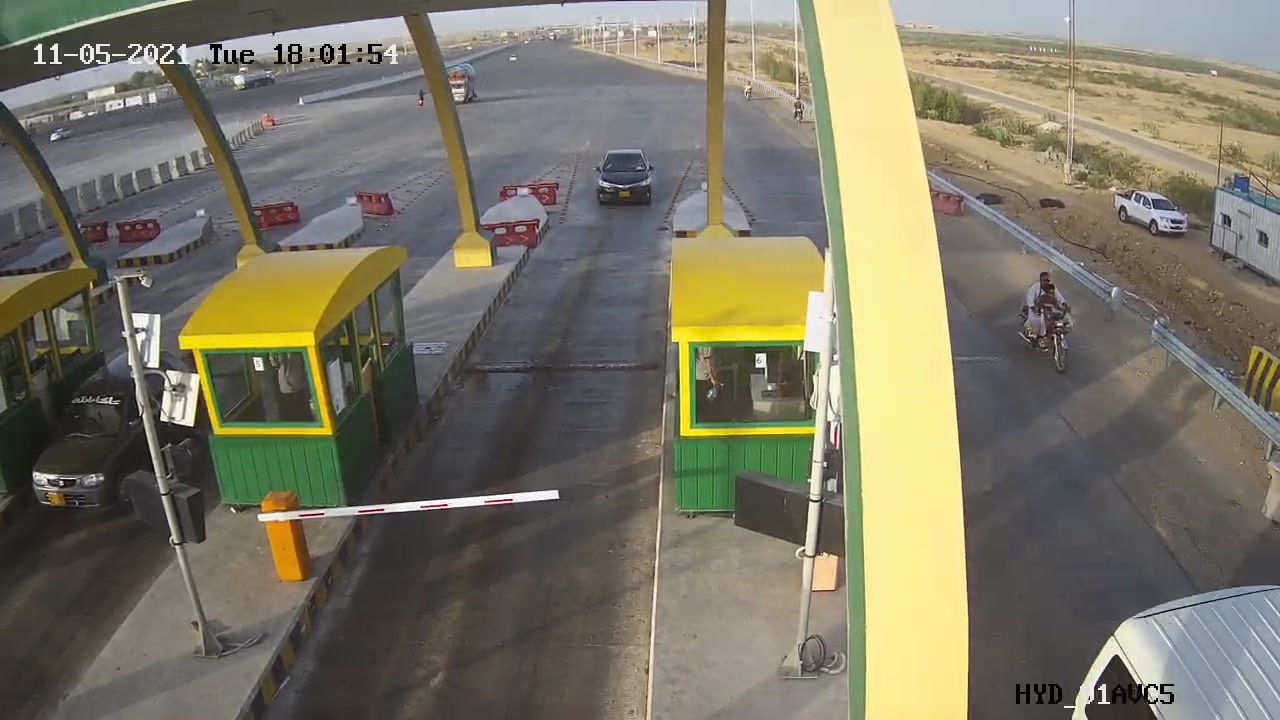F1: (587, 144, 661, 213)
